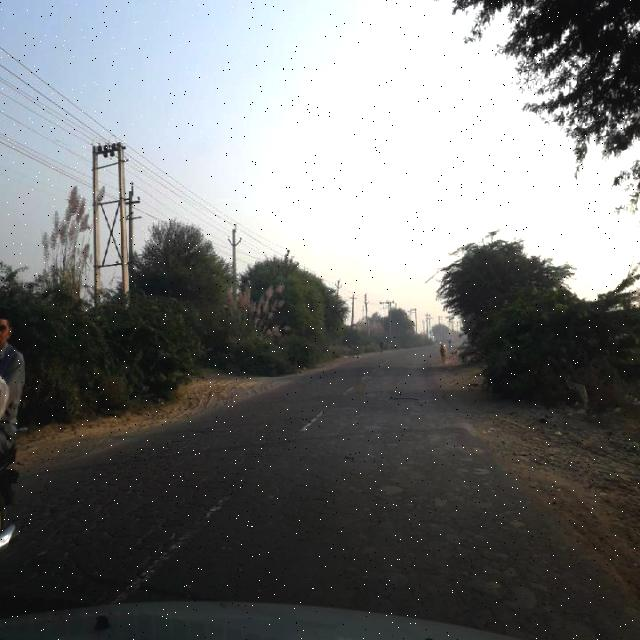D20: (33, 456, 345, 604)
D44: (103, 490, 255, 602)
